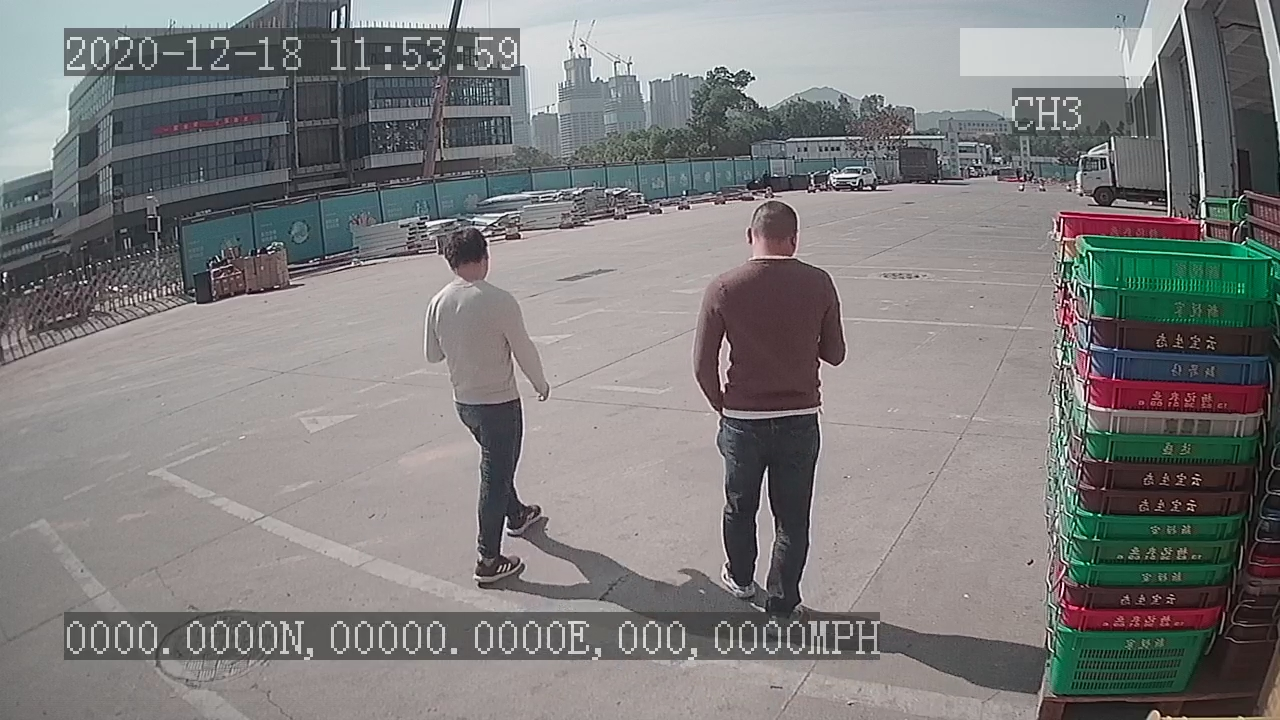person: (415, 219, 556, 599)
